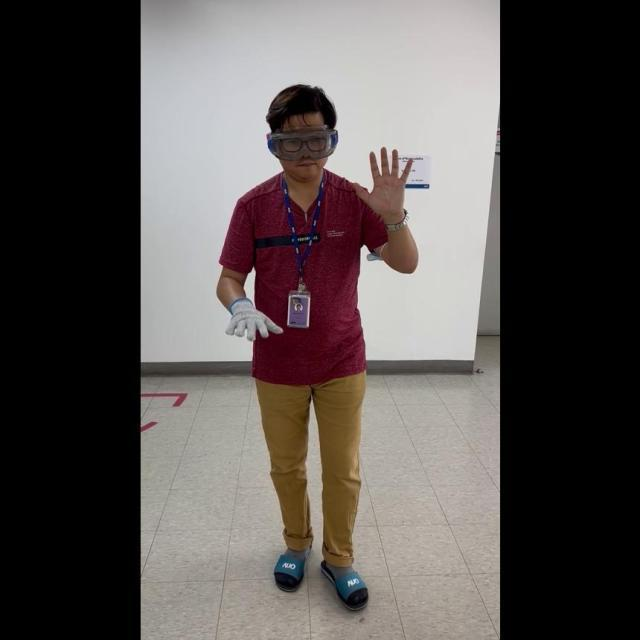bare_hand: (353, 140, 412, 223)
gloved_hand: (222, 292, 281, 343)
